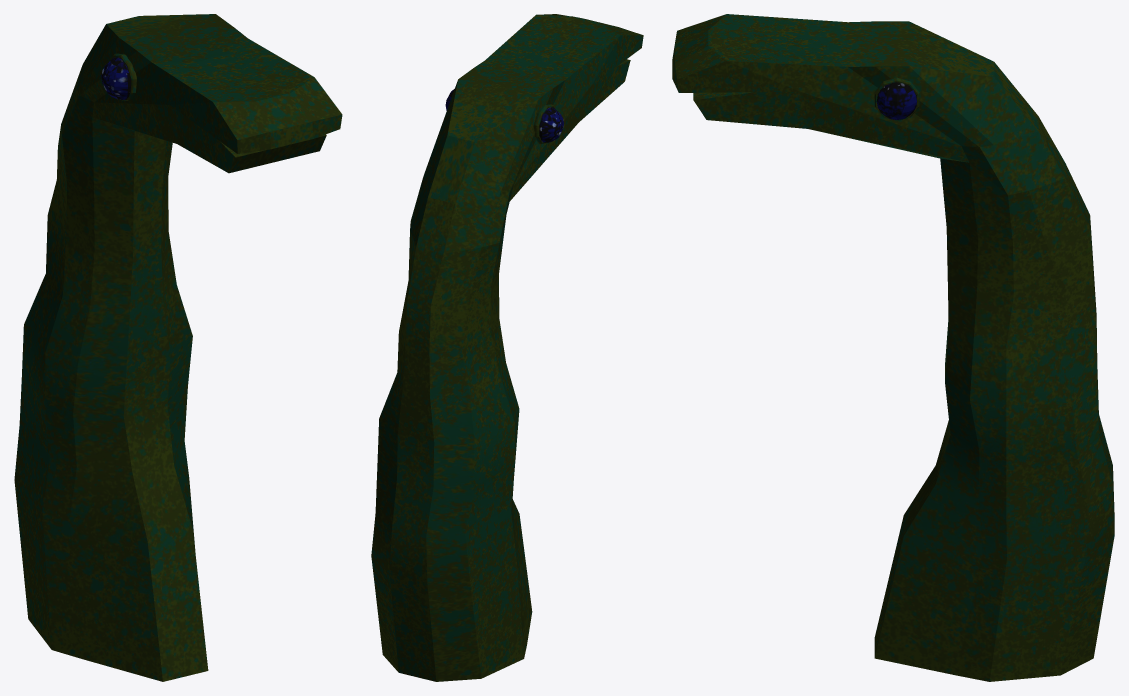
File: Lagarto 4.obj
3 views of the same model, side by side, from view 1: azimuth 30°, elevation 25°; view 2: azimuth 150°, elevation 25°; view 3: azimuth 270°, elevation 25° (orthographic). The views are drawn at different scales.
Visible parts, largest first — view 1: polySurface49; view 2: polySurface49; view 3: polySurface49.
Part boxes in pixels (x1,y1,x2,y2): polySurface49: [14, 14, 342, 681]; polySurface49: [371, 14, 643, 681]; polySurface49: [672, 14, 1114, 681].
Size of the model in its own units: 0.9289 by 3.89 by 2.56.
Materials: 2 (2 with a texture image).
